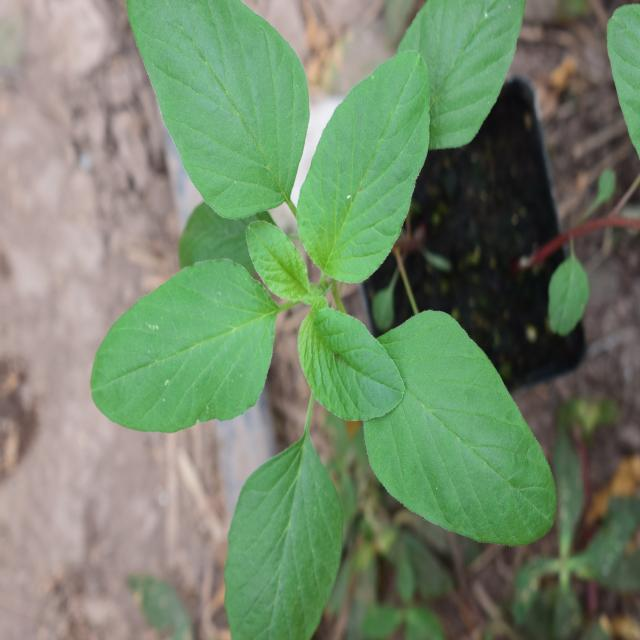pigweed: (126, 0, 541, 608)
